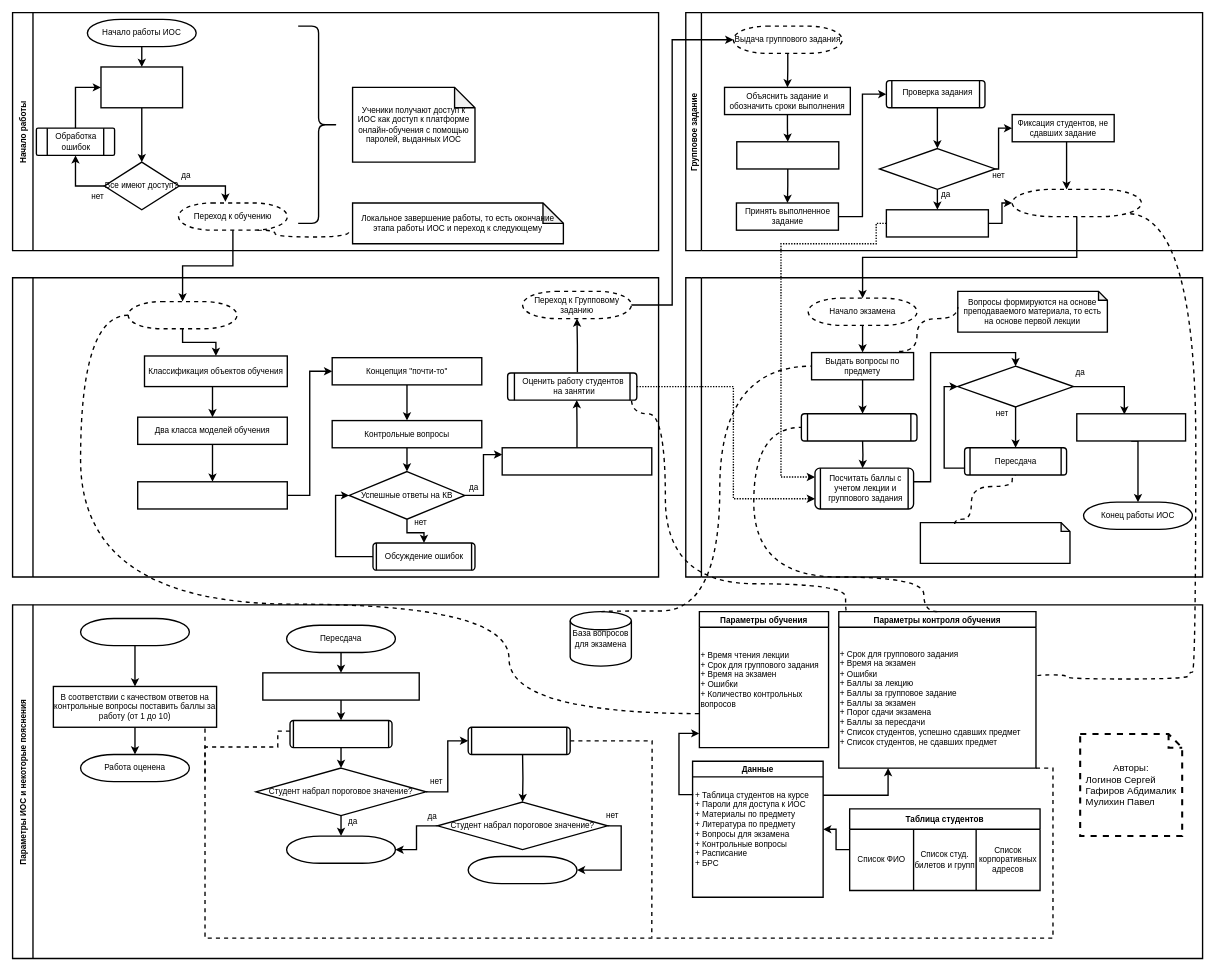
Some shapes in this 1214 by 970 pixel diagram are drawn without their labels. Each missing label, with the box of its shape:
Аттестация: (685, 277, 1203, 577)
Выдать материалы для выполнения задания: (736, 141, 839, 169)
Выдать список литературы по теме: (501, 447, 652, 475)
Выставить баллы, переход к аттестации: (1011, 188, 1142, 217)
Дать доступ к ИОС ученикам: (100, 66, 183, 108)
Задание сдано успешно: (879, 148, 996, 190)
Комиссия: (467, 726, 571, 755)
Лекция 1: (12, 277, 659, 577)
Начало чтения первой лекции: (127, 301, 237, 329)
Озвучить результаты: (1076, 413, 1186, 441)
Оценить работу студентов: (80, 617, 190, 646)
Повторная выдача вопросов по теме: (262, 672, 420, 700)
Подробное описание процесса "пересдача" дано в последнем блоке описания ИОС: (919, 522, 1070, 564)
Порог пройден?: (957, 365, 1074, 407)
Сбор и проверка работ: (289, 719, 392, 748)
Собрать, проверить и оценить работы учеников: (800, 413, 917, 441)
Фиксация студентов, сдавших задание: (885, 209, 989, 237)
Четыре типа обучения ИС: (137, 481, 288, 509)
Экзамен не сдан: (467, 855, 577, 884)
Экзамен сдан: (286, 835, 396, 864)
